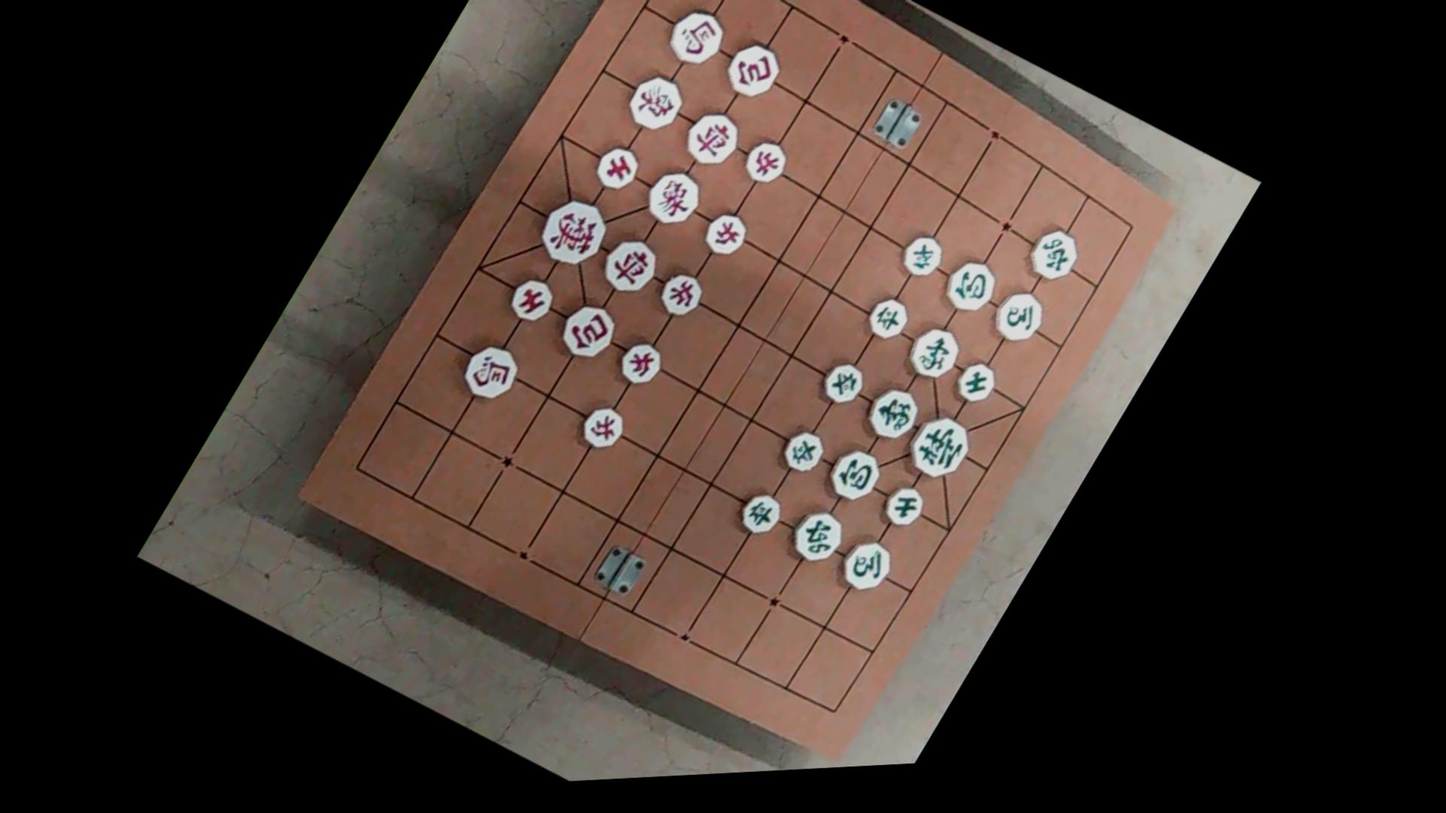cha_green: (782, 501, 853, 572), (1021, 221, 1088, 288)
cha_red: (676, 102, 749, 174), (595, 230, 667, 301)
jol_green: (895, 227, 951, 283), (816, 355, 871, 410), (776, 424, 831, 479), (733, 487, 788, 540), (862, 291, 915, 344)
jol_red: (737, 132, 795, 190), (653, 265, 710, 322), (613, 334, 670, 391), (575, 399, 631, 455), (698, 205, 755, 260)
ma_green: (984, 282, 1052, 351), (833, 531, 901, 598)
ma_red: (661, 1, 734, 73), (456, 336, 528, 407)
po_green: (820, 440, 890, 510), (938, 251, 1006, 319)
po_red: (552, 295, 625, 367), (718, 35, 790, 105)
sa_green: (877, 477, 932, 534), (950, 354, 1004, 410)
sa_red: (503, 270, 561, 327), (590, 140, 645, 195)
sang_green: (858, 378, 929, 449), (900, 317, 970, 386)
sang_red: (621, 67, 692, 138), (638, 162, 709, 233)
wang_green: (898, 405, 981, 488)
wang_red: (530, 188, 619, 276)
